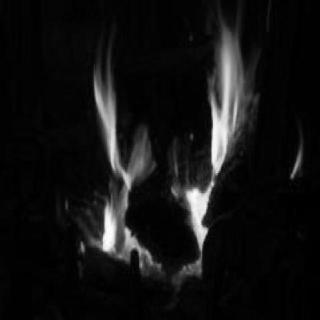Fire: (75, 10, 248, 283), (288, 120, 306, 190)
